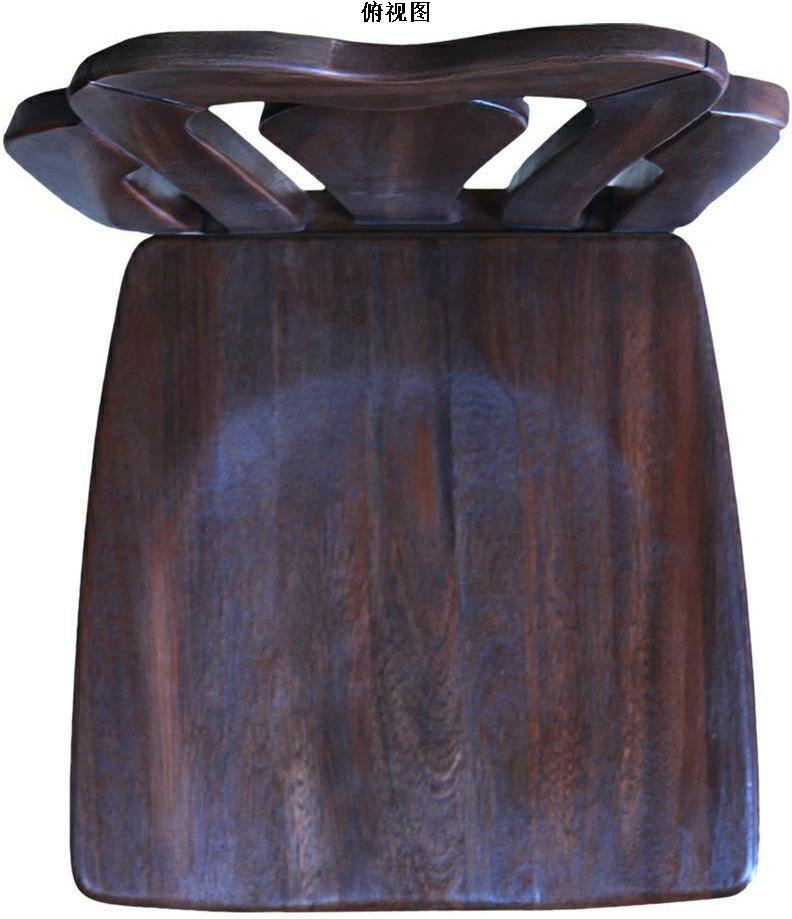obstacle: (7, 24, 785, 908)
